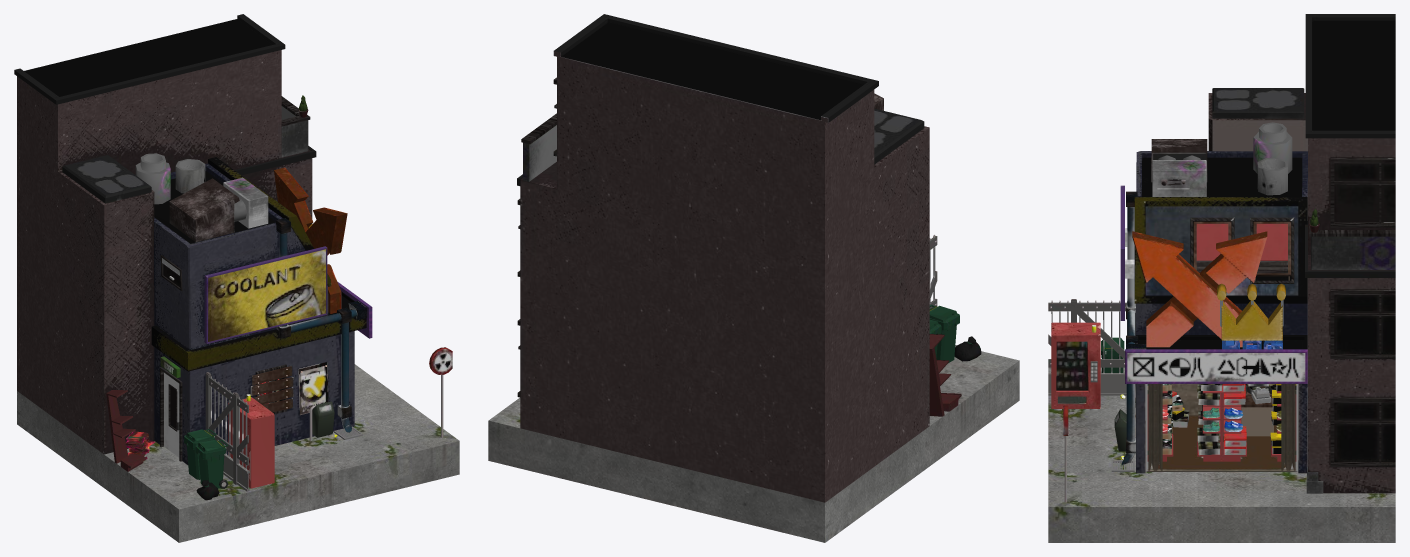
The model's file is PunkCornerStore.fbx.
3 renders of one model, left to right at view 1: azimuth 30°, elevation 25°; view 2: azimuth 150°, elevation 25°; view 3: azimuth 270°, elevation 25°, orthographic. The views are drawn at different scales.
Visible parts, largest first — view 1: 3D; view 2: 3D; view 3: 3D.
Boxes of the visible parts, x1,y1,x2,y2 form: 3D: (14,14,459,542); 3D: (488,14,1019,542); 3D: (1048,14,1395,542).
Bounding box in the file's own units: 88387 × 105788 × 87530.
Materials: 1 (1 with a texture image).
